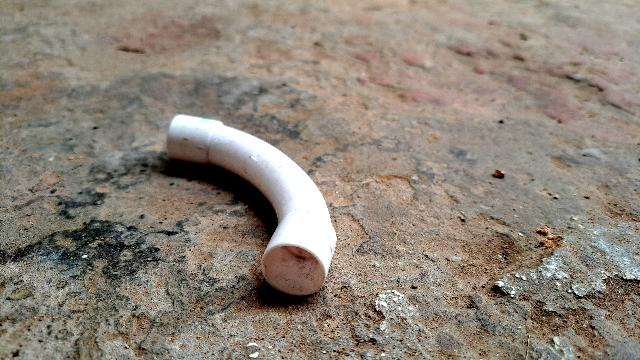hardplastic: (158, 91, 355, 313)
